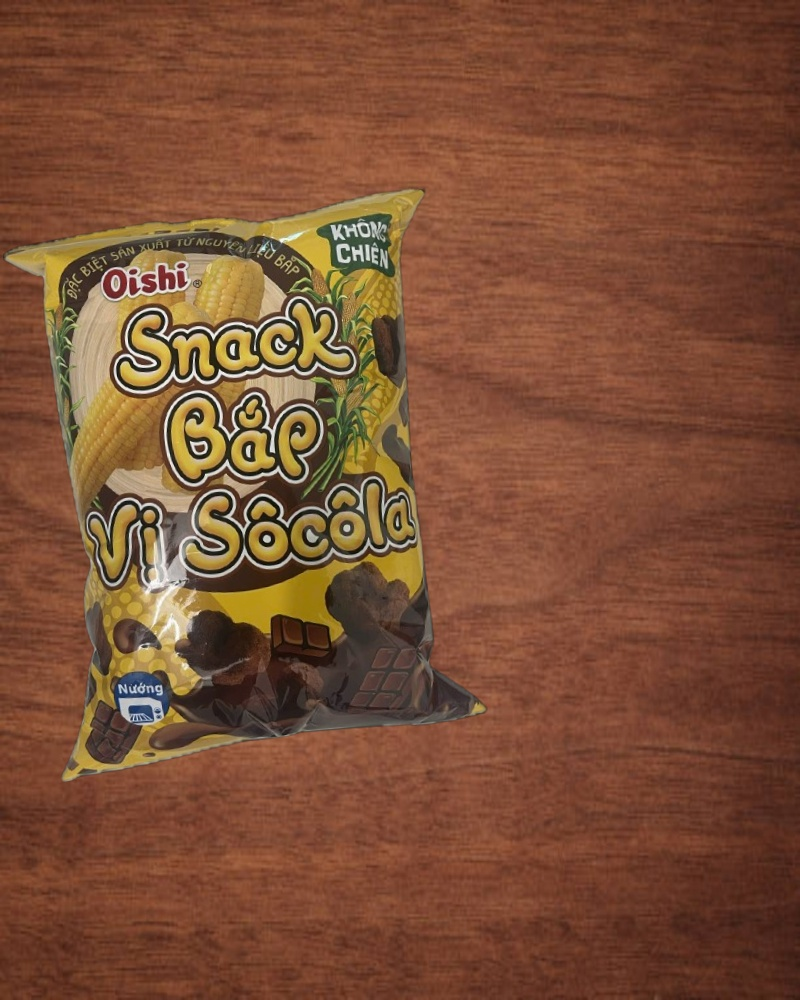Snack socola: (4, 190, 490, 771)
